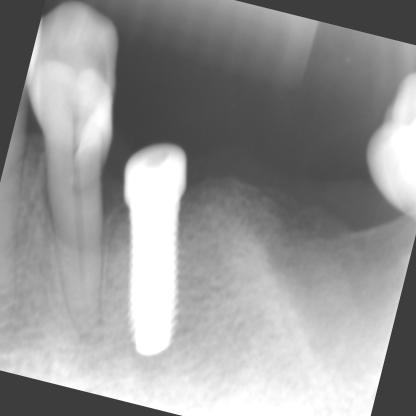Bego: (123, 206, 188, 369)
